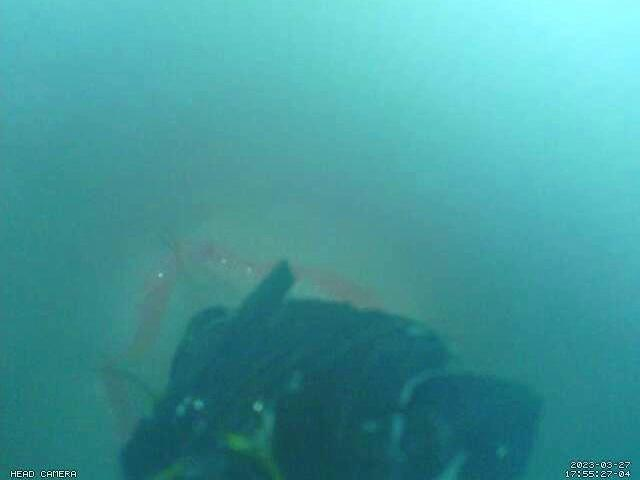head: (99, 238, 377, 433)
